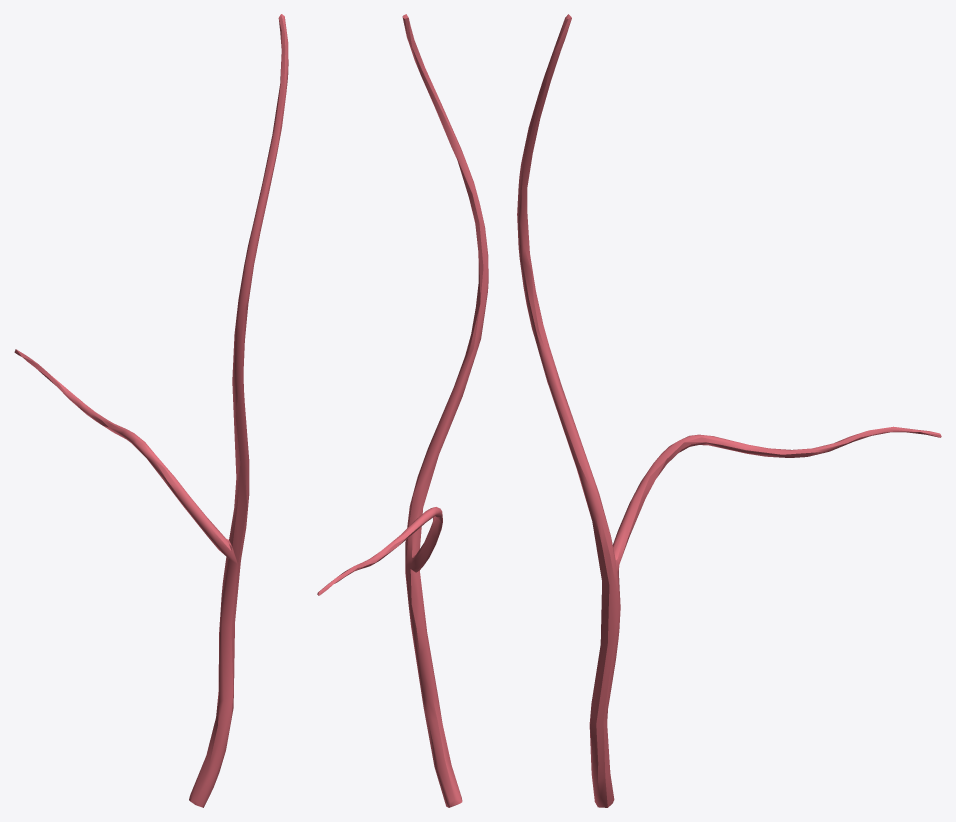
File: fma49584_fj5019.glb
The picture shows the model from 3 angles, left to right: view 1: azimuth 30°, elevation 25°; view 2: azimuth 150°, elevation 25°; view 3: azimuth 270°, elevation 25°; orthographic projection. The views are drawn at different scales.
Visible parts, largest first — view 1: FMA49584_FJ5019; view 2: FMA49584_FJ5019; view 3: FMA49584_FJ5019.
Part boxes in pixels (x1,y1,x2,y2): FMA49584_FJ5019: [14, 14, 288, 807]; FMA49584_FJ5019: [317, 14, 488, 807]; FMA49584_FJ5019: [517, 14, 941, 807].
Bounding box in the file's own units: 0.00954 × 0.074 × 0.0345.
